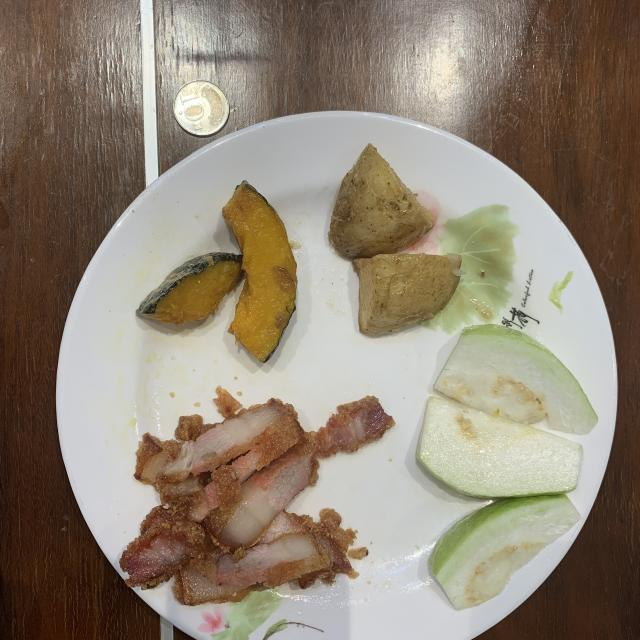coin: (174, 81, 229, 136)
fried potato: (329, 144, 462, 335)
guava -sliced-: (416, 325, 598, 609)
pumpkin: (136, 181, 296, 361)
red grilled pork: (120, 388, 394, 604)
